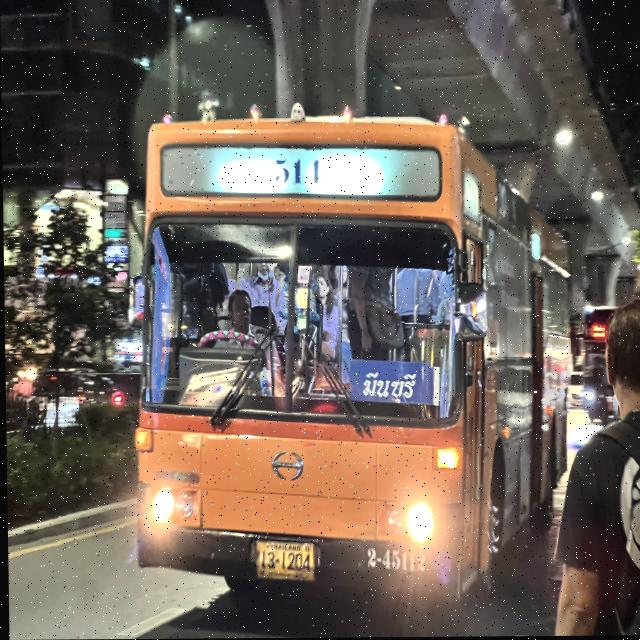BMTA-bus: (122, 91, 579, 619)
Bus-Line-Number: (269, 152, 326, 189)
Destination-Sign-Normal: (349, 364, 436, 402)
